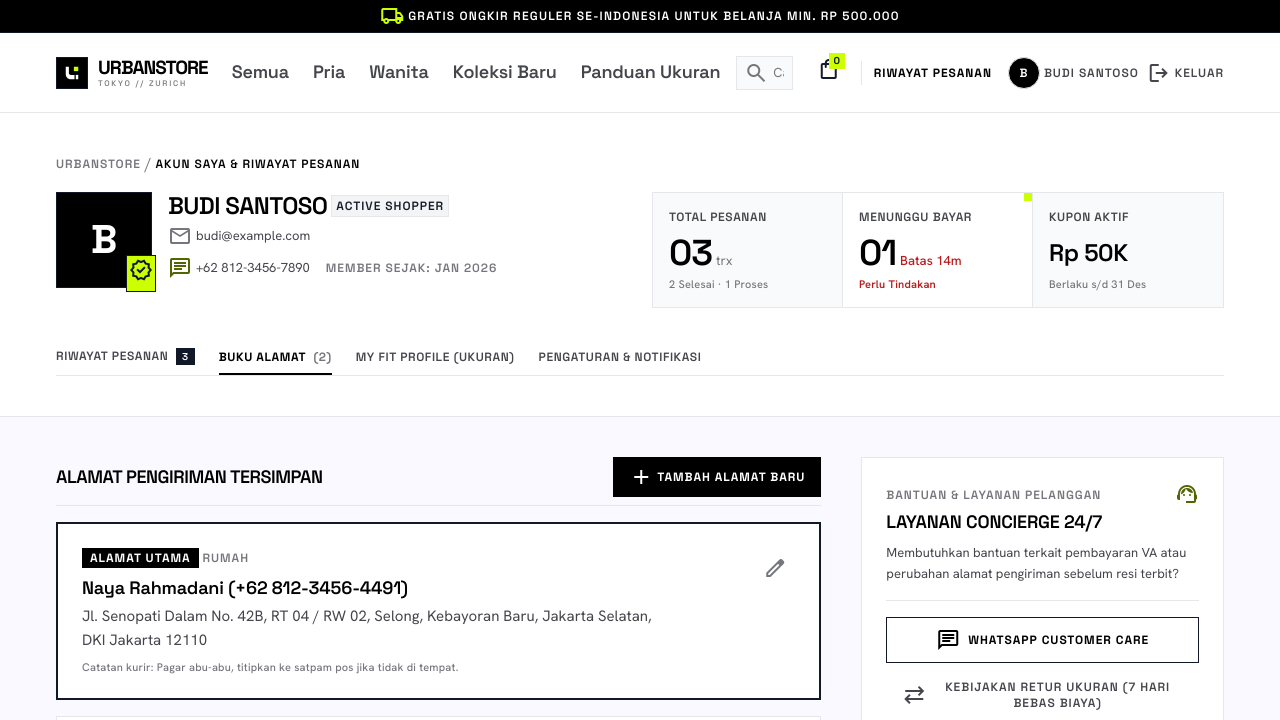
Test: AccountView › menambah alamat baru lewat modal berlabel dan menyimpannya ke server
Click the button "Tambah Alamat Baru" at coordinates (717, 477), box [613,457,821,497]
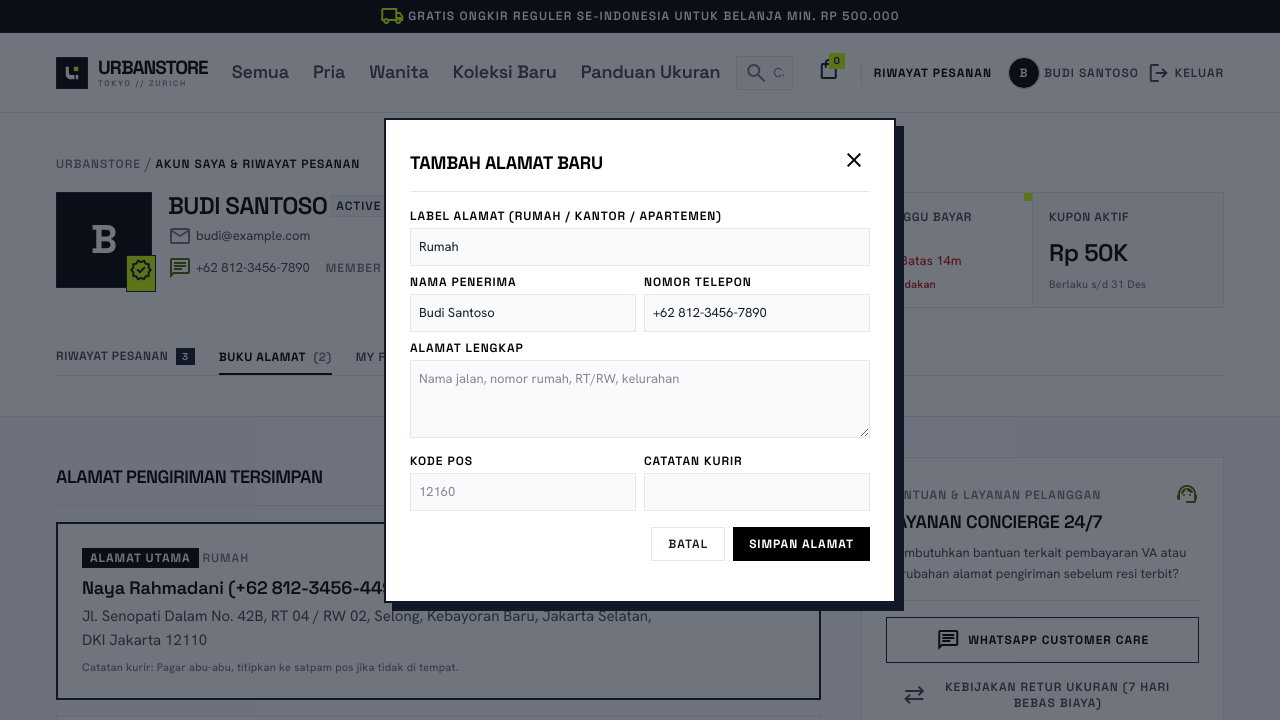
Replace the text in the field labelled "Label Alamat (Rumah / Kantor / Apartemen)" with "Kos" at coordinates (640, 246), box [410,228,870,266]
Replace the text in the field labelled "Nama Penerima" with "Budi" at coordinates (523, 312), box [410,294,636,332]
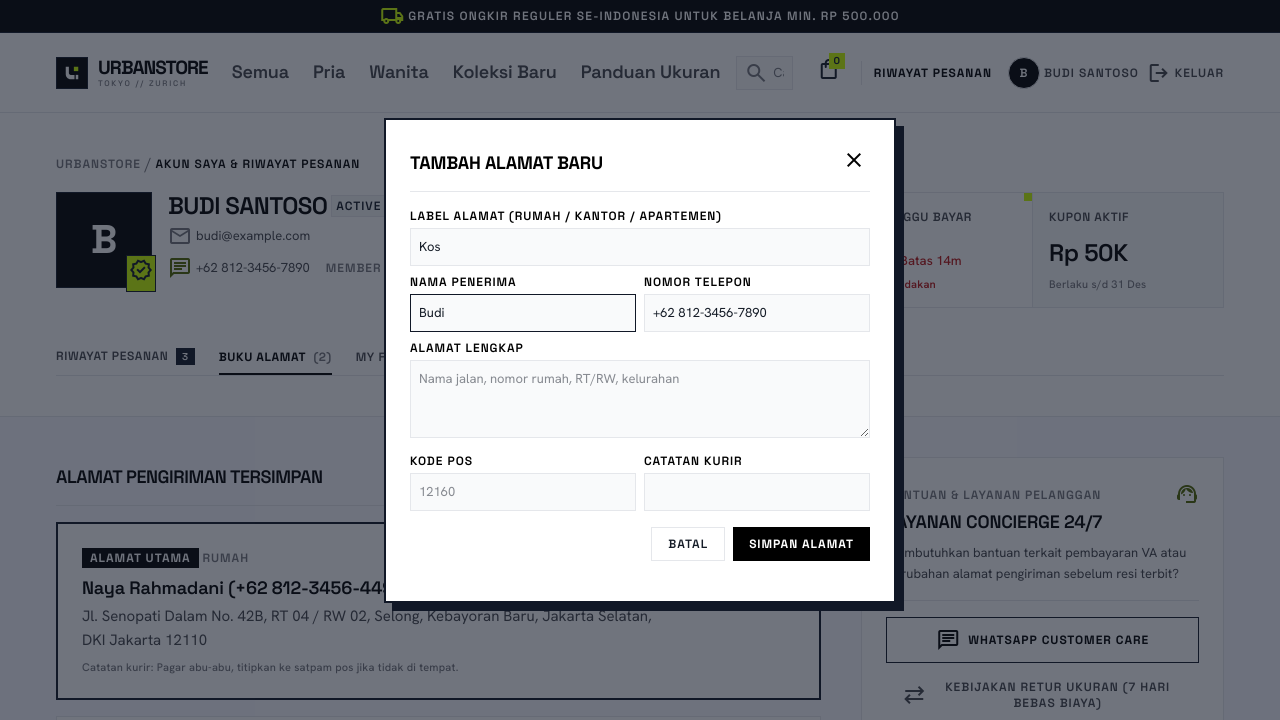
Type "+62 811-1111-2222" into the field labelled "Nomor Telepon" at coordinates (757, 312), box [644,294,870,332]
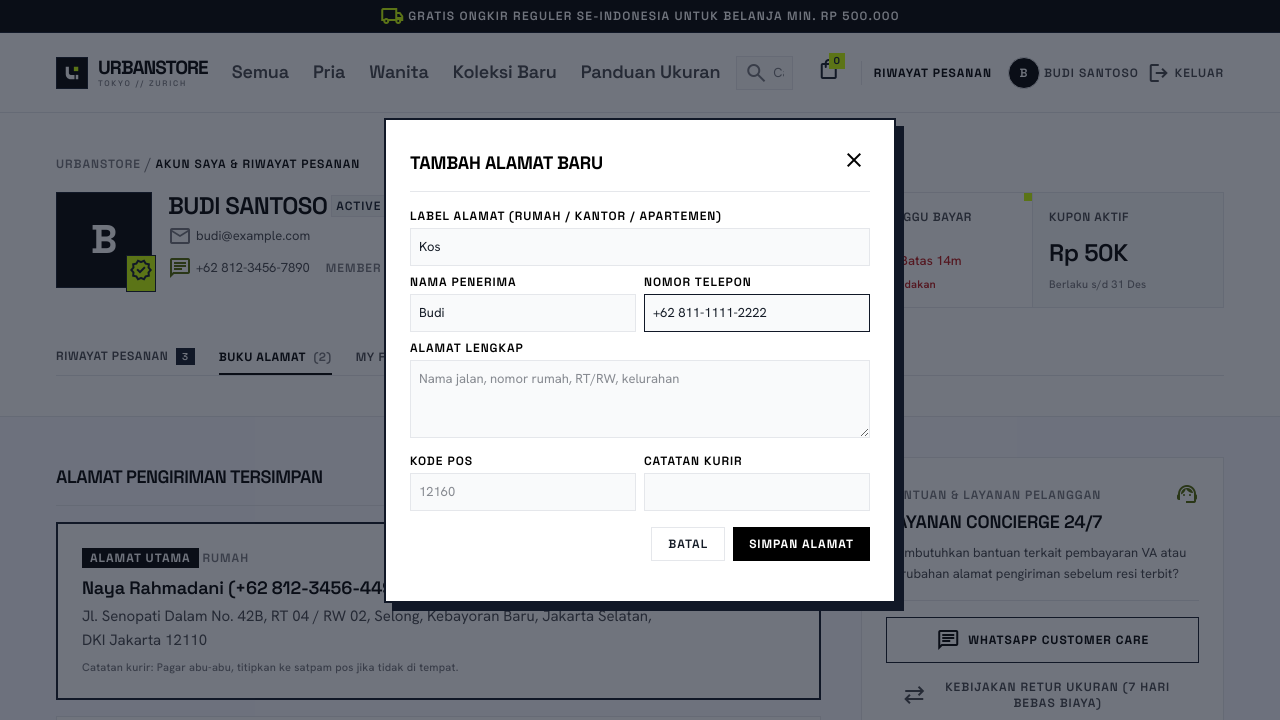
Type "Jl. Kenanga No. 3, Bandung" into the text box labelled "Alamat Lengkap" at coordinates (640, 398), box [410,360,870,438]
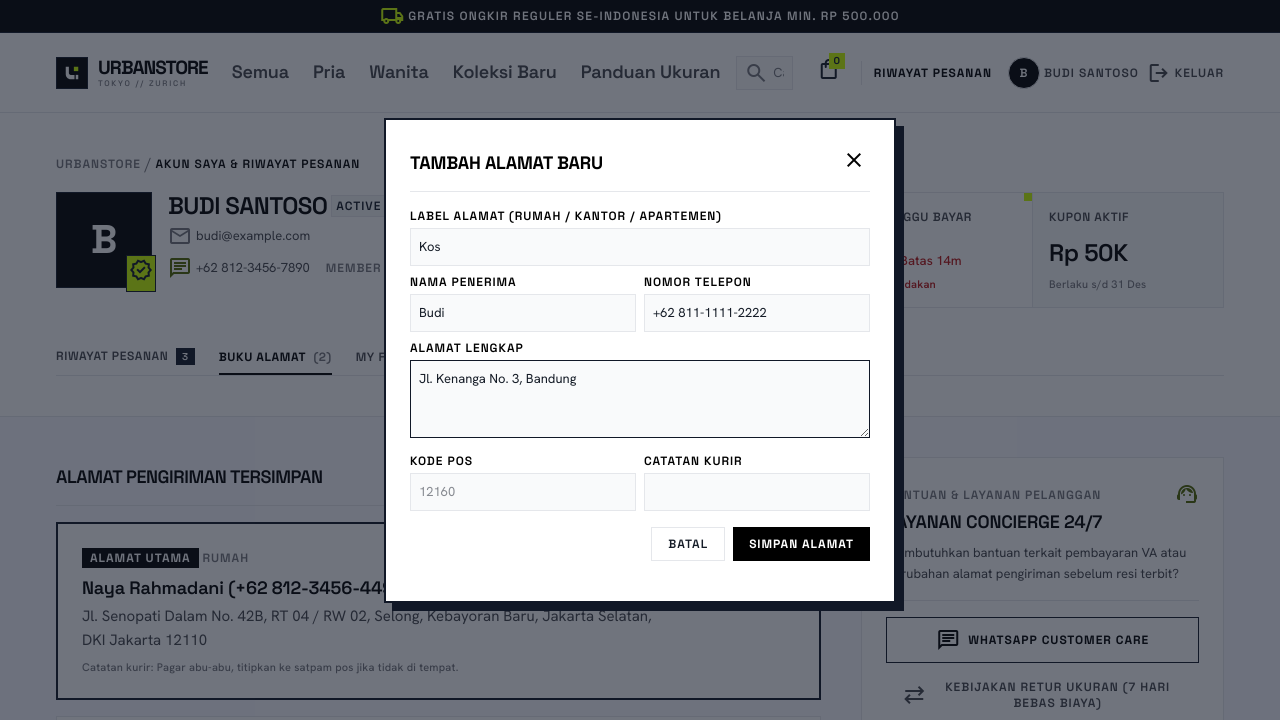
Type "40111" into the field labelled "Kode Pos" at coordinates (523, 492), box [410,472,636,510]
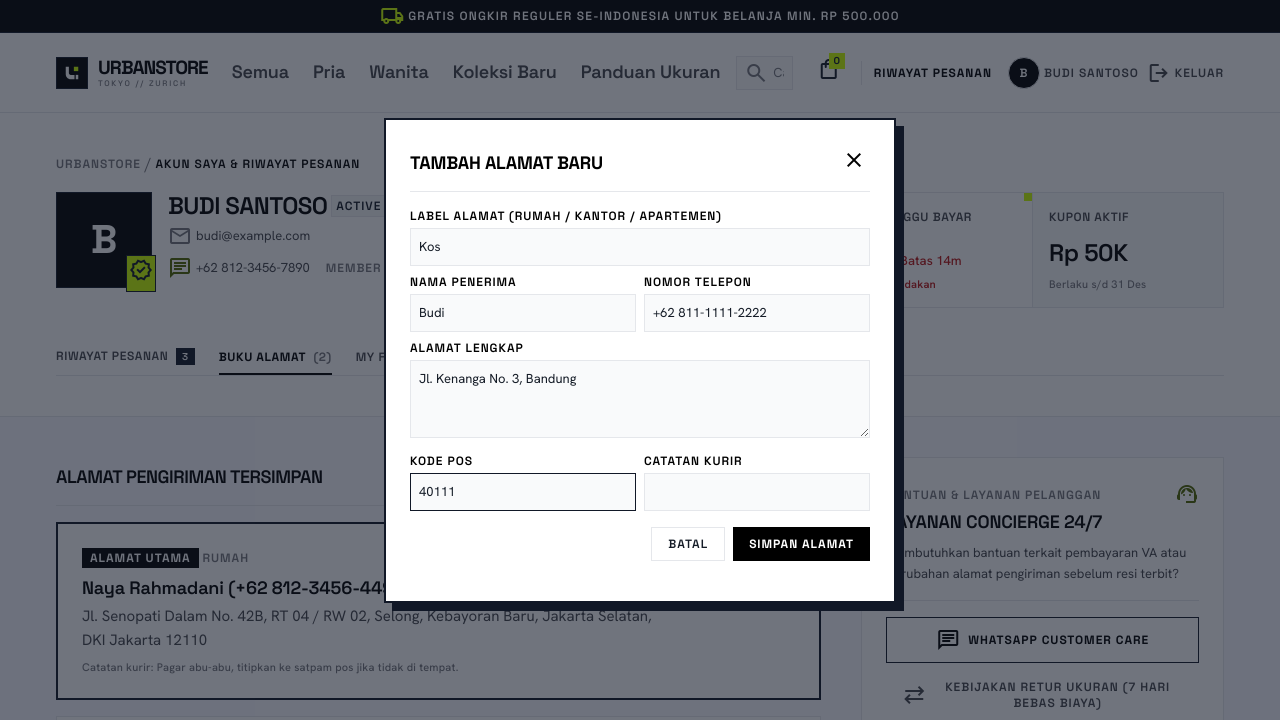
Click the button "Simpan Alamat" at coordinates (802, 544), box [733,526,870,560]
(page scrolled)
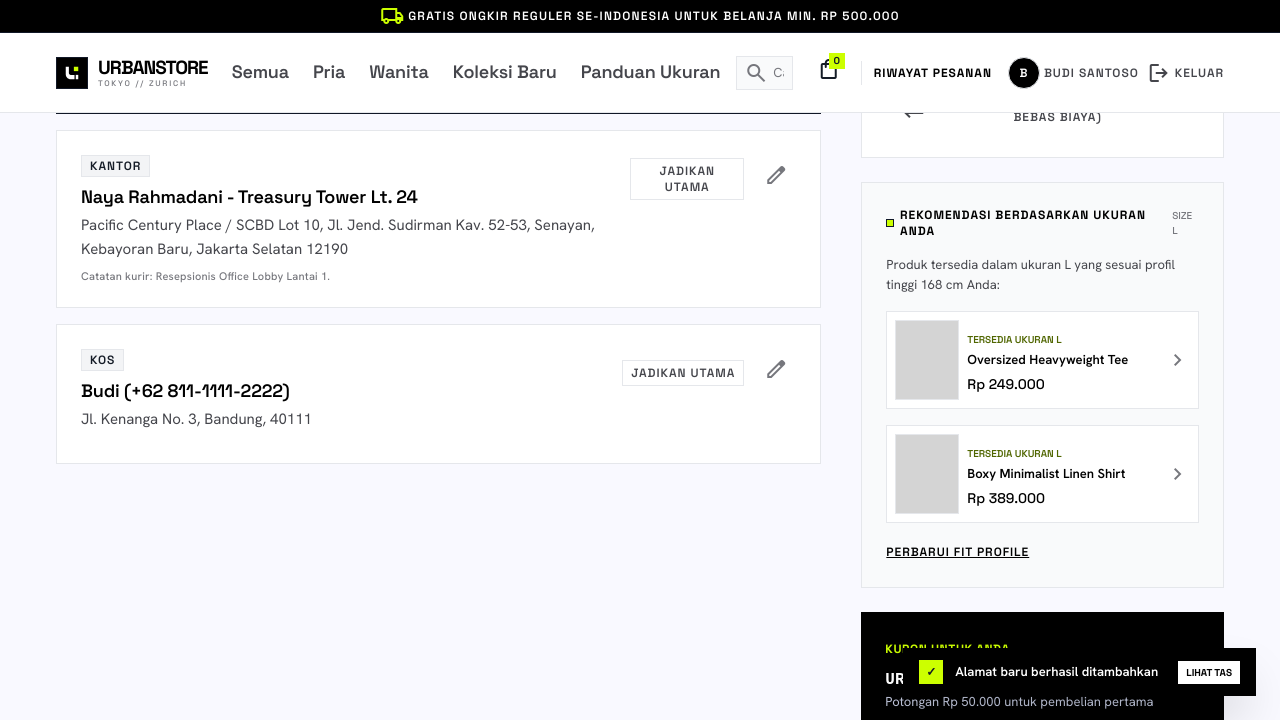
Expected: the dialog is gone
